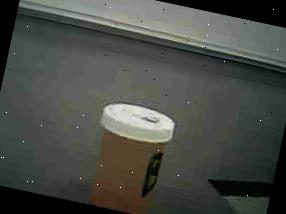Bottle B: (71, 90, 193, 214)
